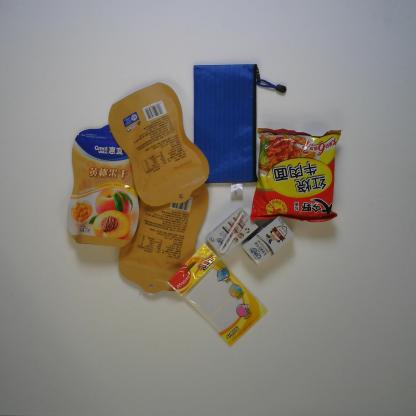Dried Fruit: (107, 81, 211, 208), (117, 181, 210, 294), (67, 123, 140, 250)
Instant Noodles: (249, 126, 343, 224)
Milk: (204, 206, 260, 260), (241, 215, 297, 268)
Stationery: (192, 63, 287, 202), (167, 242, 269, 350)
